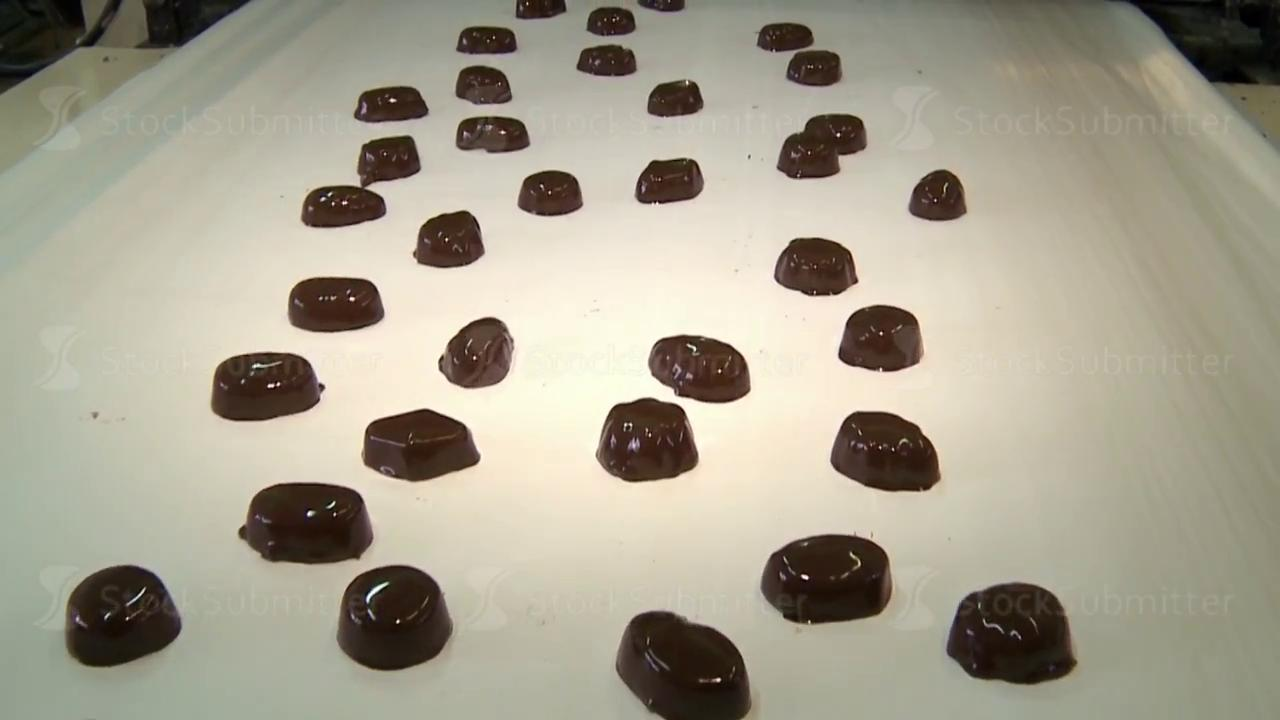chocolate: (615, 609, 752, 719), (946, 581, 1076, 684), (336, 563, 453, 670), (760, 532, 893, 624), (65, 563, 181, 667), (241, 481, 373, 564), (830, 410, 940, 492), (362, 408, 480, 481), (596, 397, 698, 481), (211, 351, 323, 420), (648, 334, 750, 402), (838, 304, 923, 371), (438, 316, 514, 388), (288, 276, 384, 332), (774, 237, 858, 296), (414, 210, 484, 267), (301, 185, 385, 227), (635, 157, 704, 204), (357, 135, 420, 185), (777, 131, 840, 178), (518, 170, 582, 216), (909, 169, 966, 220), (354, 85, 428, 122), (456, 115, 529, 152), (805, 113, 866, 153), (647, 78, 703, 117), (456, 65, 512, 104), (577, 43, 636, 76), (787, 49, 841, 85), (456, 25, 516, 54), (756, 22, 813, 51), (586, 6, 635, 35)
